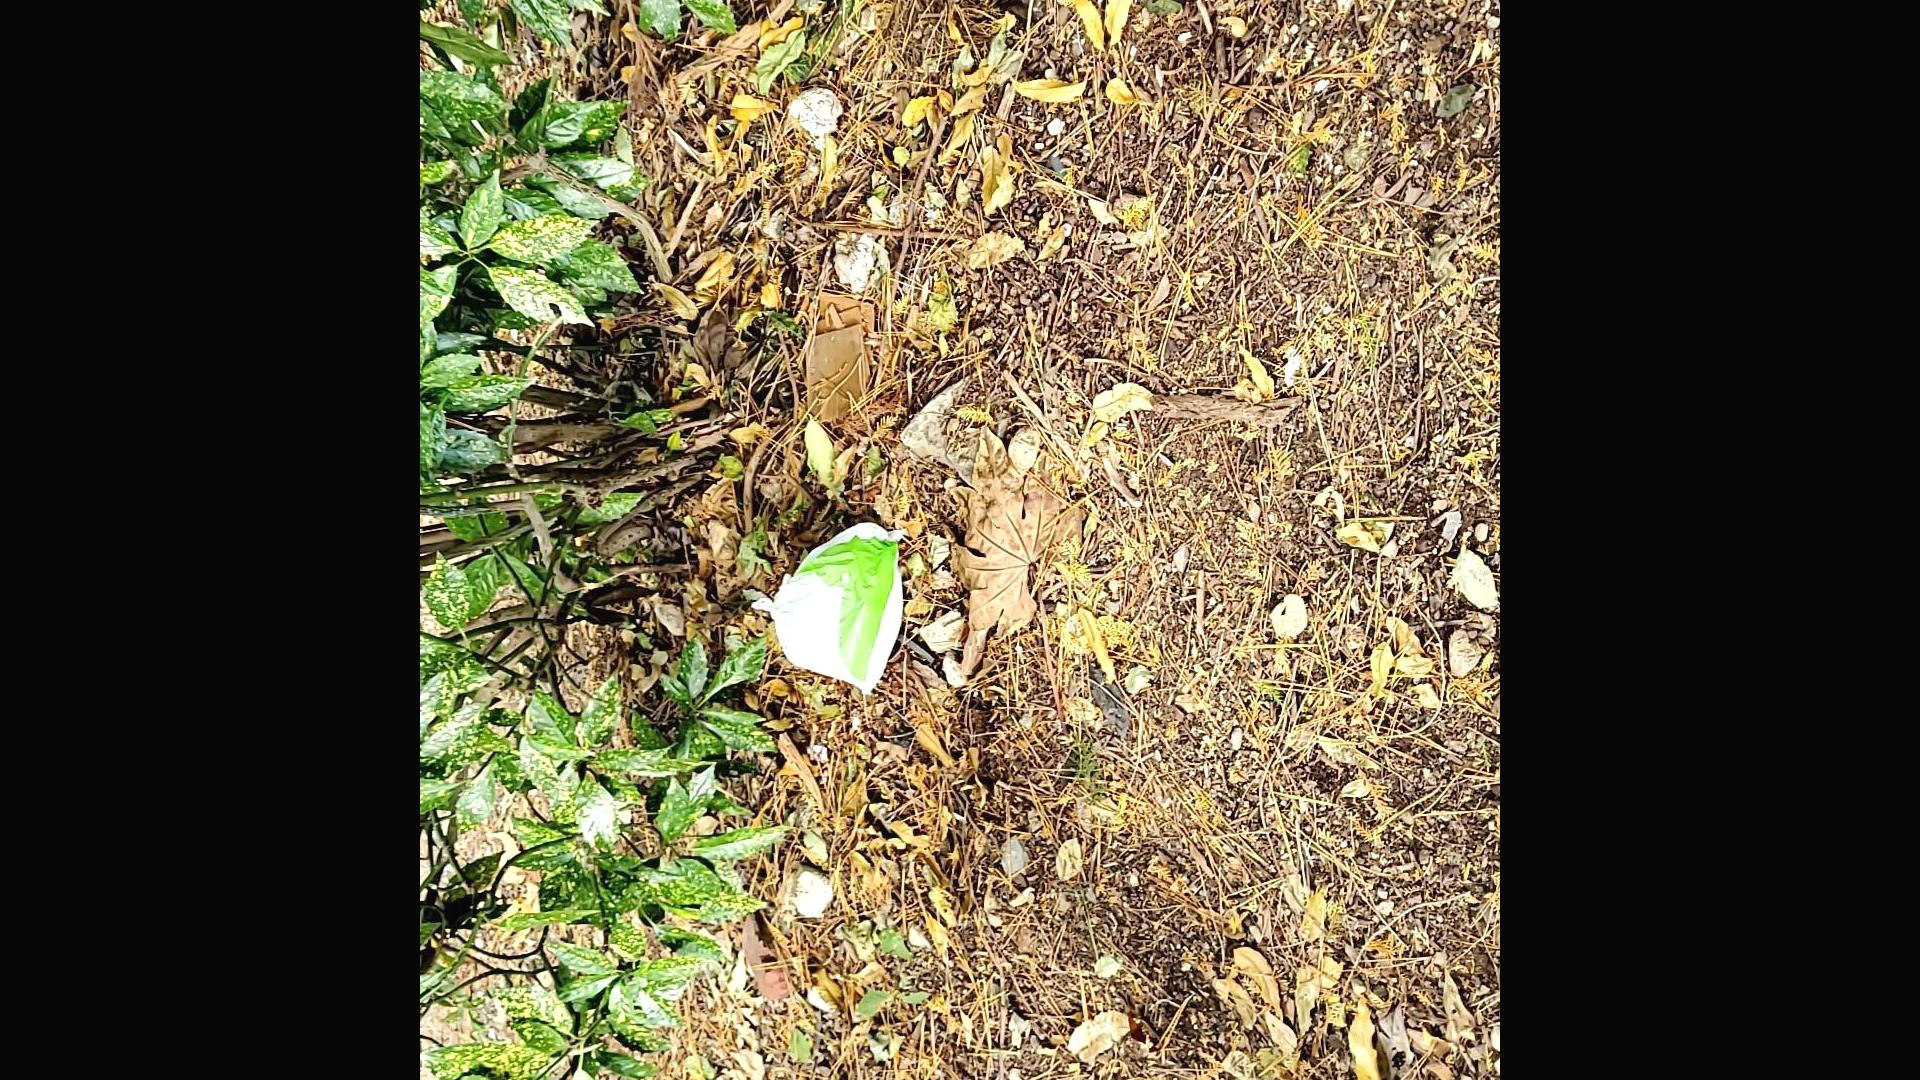white_bag: (738, 506, 923, 727)
